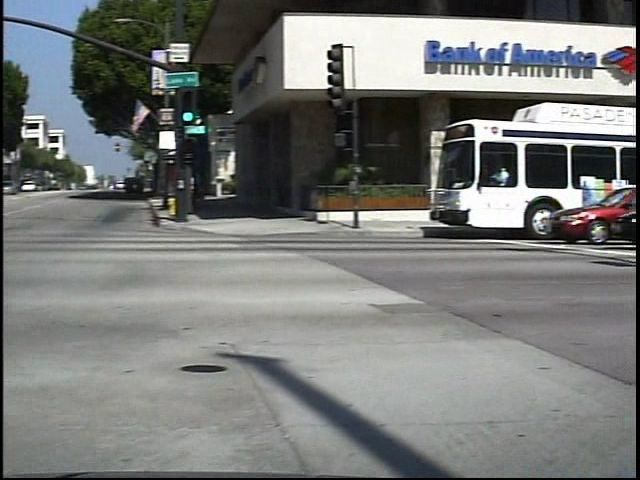person: (193, 167, 216, 217)
